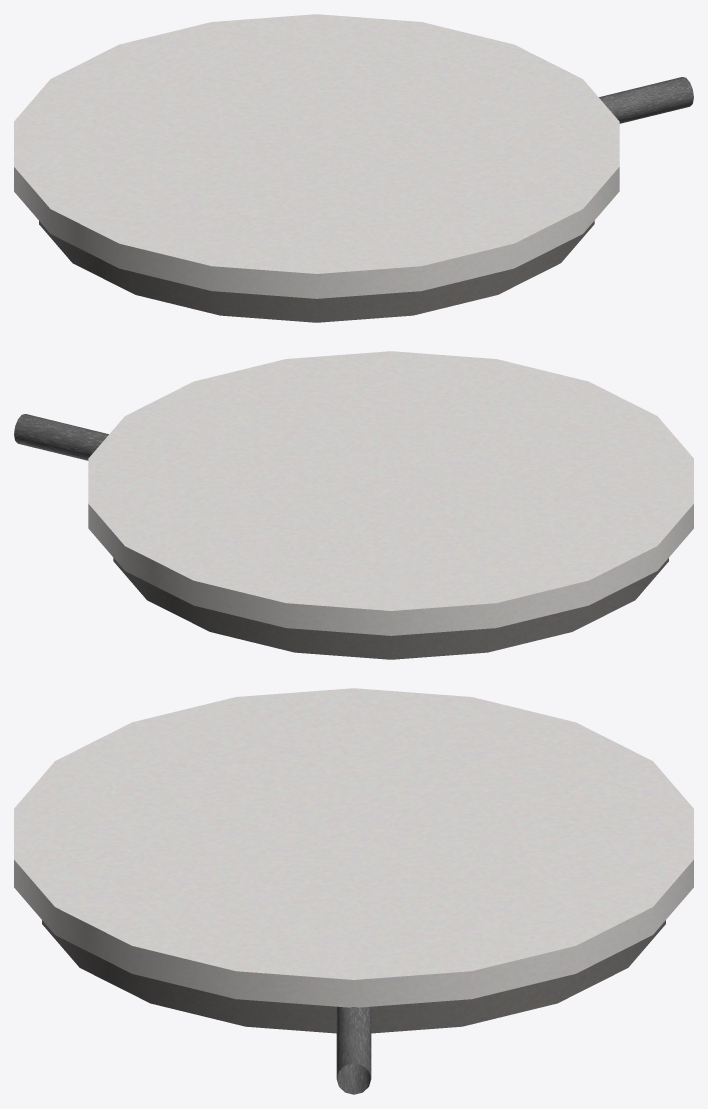
The model's file is HangingTable.FBX.
3 renders of one model, top to bottom at view 1: azimuth 30°, elevation 25°; view 2: azimuth 150°, elevation 25°; view 3: azimuth 270°, elevation 25°, orthographic. The views are drawn at different scales.
Visible parts, largest first — view 1: Hanging Table; view 2: Hanging Table; view 3: Hanging Table.
Part boxes in pixels (x1,y1,x2,y2): Hanging Table: [14, 14, 693, 322]; Hanging Table: [14, 351, 693, 659]; Hanging Table: [14, 688, 693, 1094].
Size of the model in its own units: 29.35 by 2.63 by 24.21.
